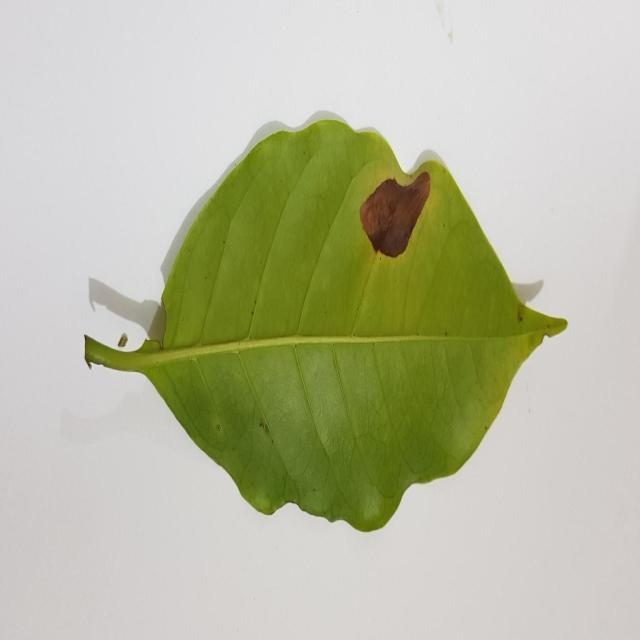miner: (360, 171, 430, 258)
